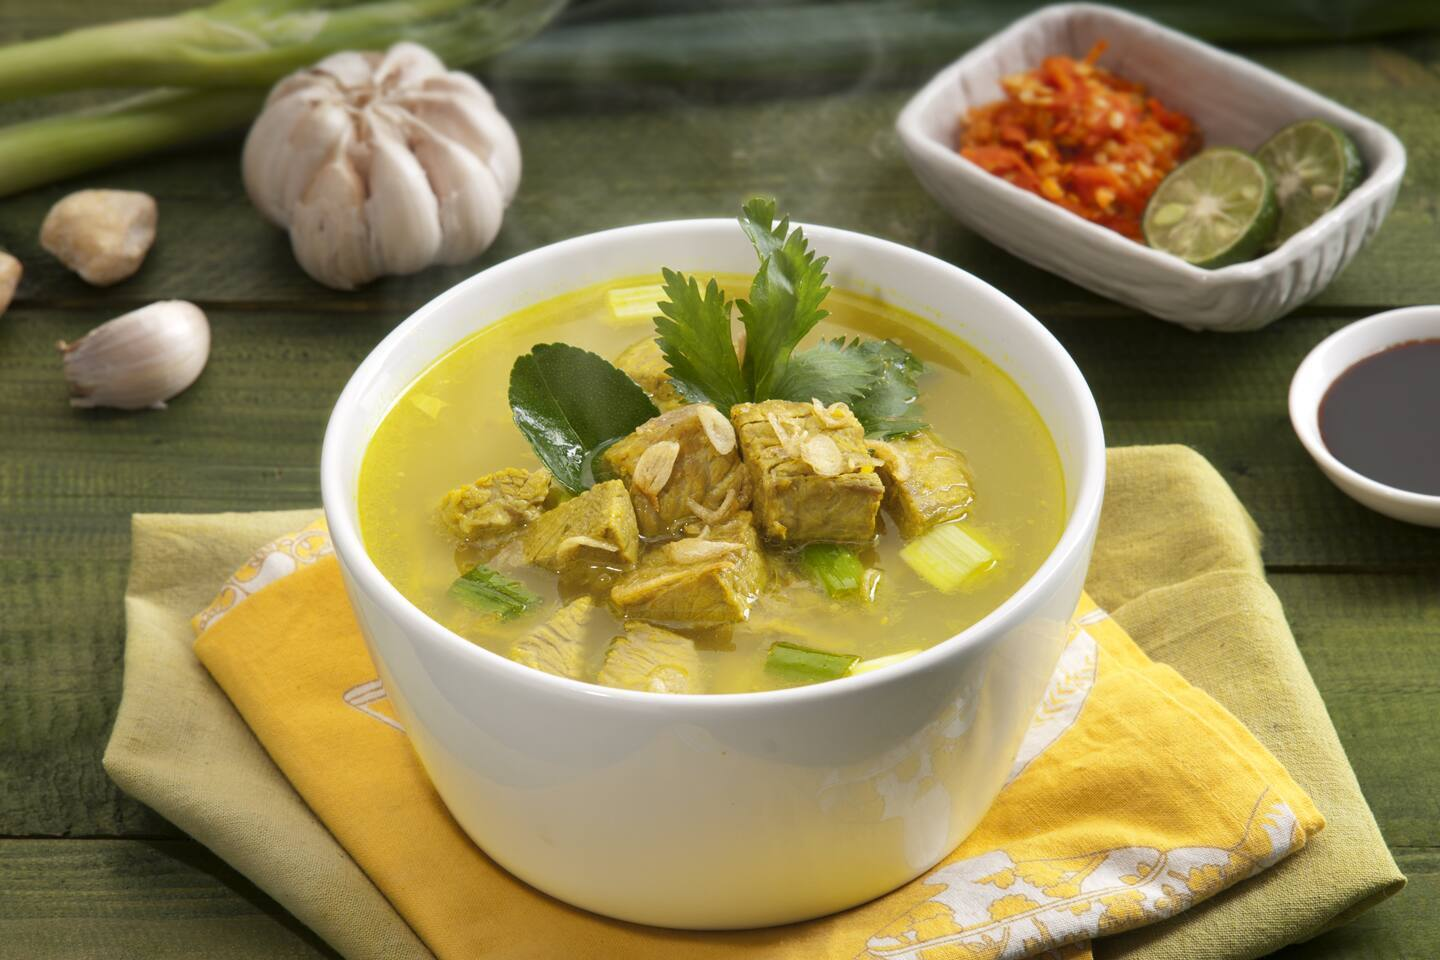soto: (313, 211, 1273, 840)
